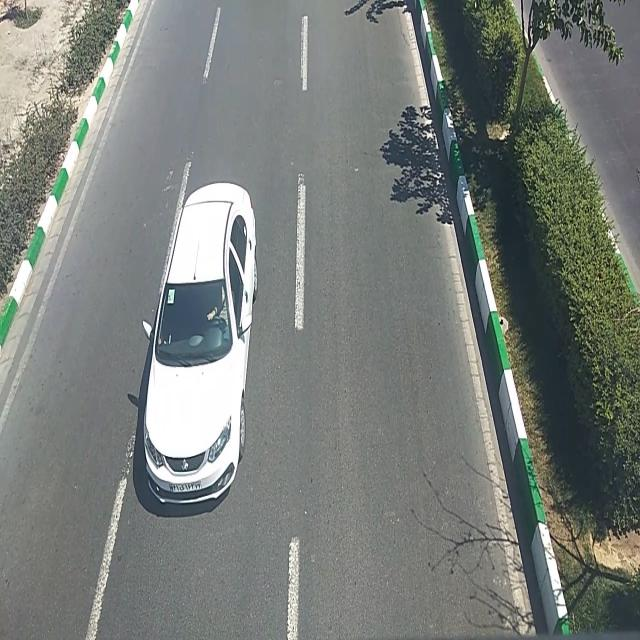car: (143, 182, 257, 502)
